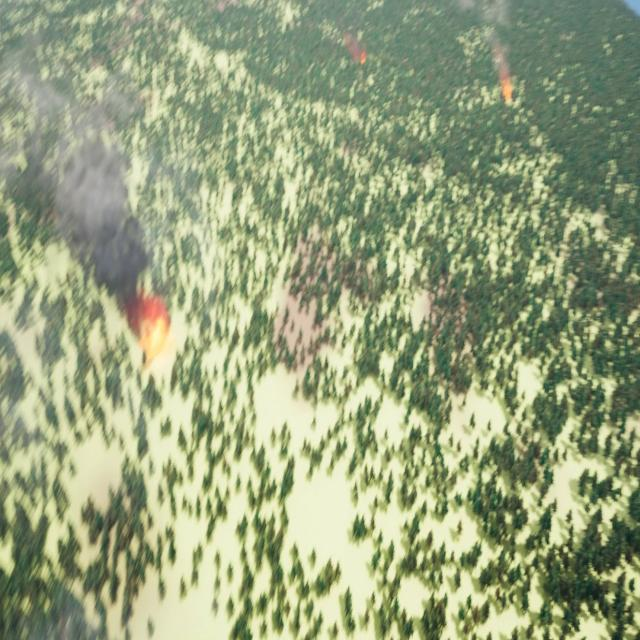fire: (133, 302, 172, 365), (503, 78, 515, 110)
smoke: (0, 53, 153, 308), (348, 37, 370, 70)
